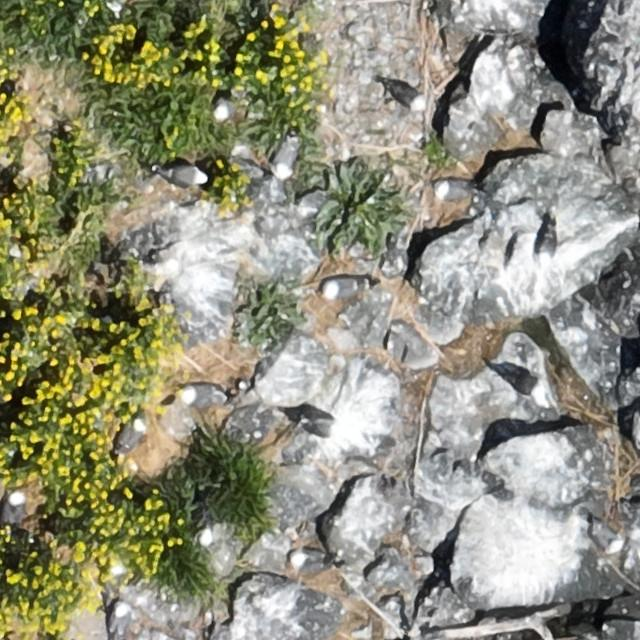umineko: (502, 368, 555, 409), (287, 546, 334, 571), (163, 165, 206, 186), (118, 420, 144, 452), (274, 139, 297, 174), (390, 84, 423, 107), (4, 492, 26, 526), (591, 524, 617, 552), (538, 223, 554, 268), (325, 277, 361, 296), (301, 415, 335, 435), (182, 386, 216, 405), (112, 606, 132, 638), (436, 182, 470, 200)
